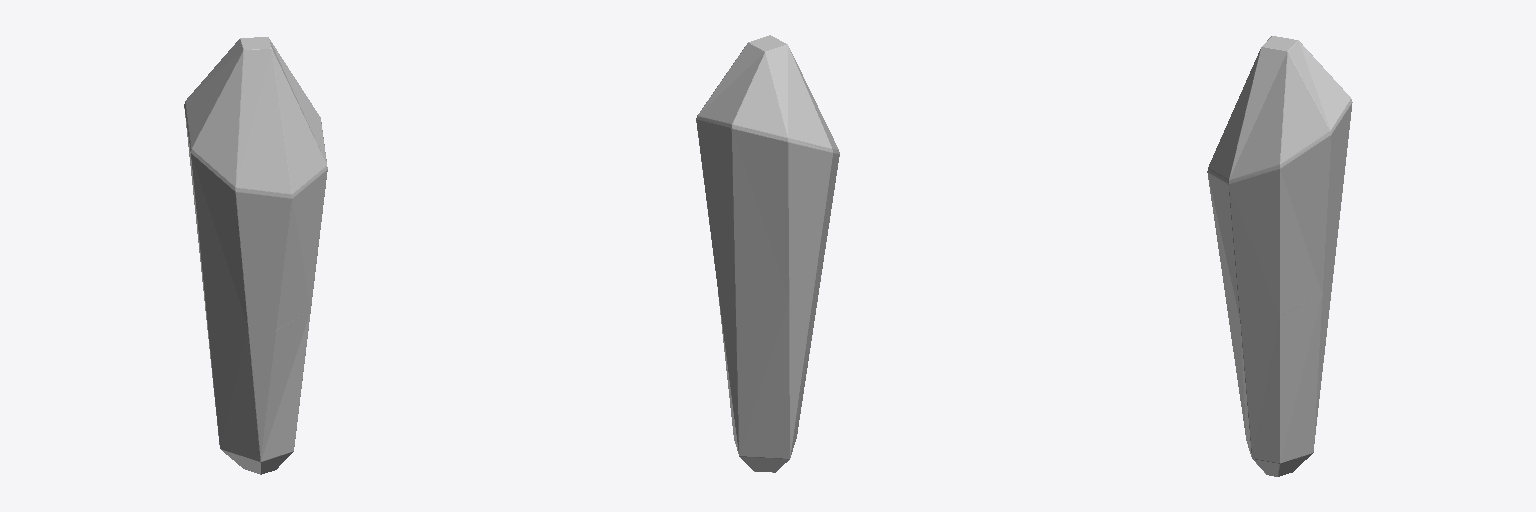
File: bigGemOnDoor.obj
3 renders of one model, left to right at view 1: azimuth 30°, elevation 25°; view 2: azimuth 150°, elevation 25°; view 3: azimuth 270°, elevation 25°, orthographic.
Parts seen in each view (by area): view 1: Gem_1:Mesh; view 2: Gem_1:Mesh; view 3: Gem_1:Mesh.
Boxes of the visible parts, box(x1,y1,x2,y2) form: Gem_1:Mesh: box(184, 37, 327, 474); Gem_1:Mesh: box(696, 35, 839, 472); Gem_1:Mesh: box(1207, 36, 1352, 476).
Size of the model in its own units: 0.4001 by 1.25 by 0.3859.